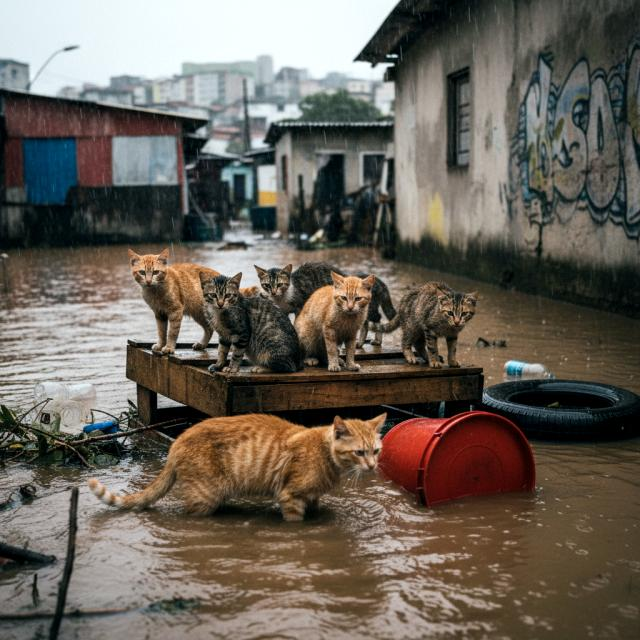cat: (86, 391, 387, 525), (112, 242, 235, 359), (191, 269, 305, 383), (250, 258, 399, 336), (377, 271, 477, 379), (282, 266, 374, 368)
